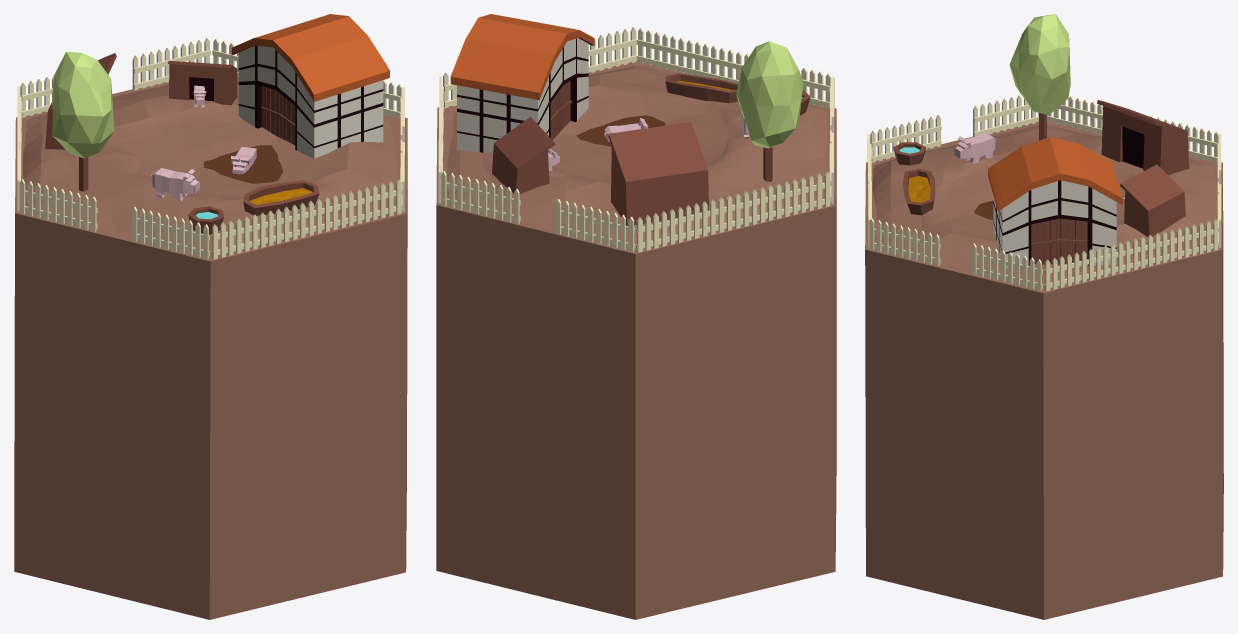
The model's file is settlement_actually.fbx.
The picture shows the model from 3 angles, left to right: view 1: azimuth 30°, elevation 25°; view 2: azimuth 150°, elevation 25°; view 3: azimuth 270°, elevation 25°; orthographic projection. The views are drawn at different scales.
Parts seen in each view (by area): view 1: BasePlate.003, Cube.005, Cube.129, Icosphere, Cube.004, Torus.001, Cube.008, Cube.007, Torus, Cube; view 2: BasePlate.003, Cube.129, Cube.005, Cube, Icosphere, Cube.004, Torus.001, Cube.008; view 3: BasePlate.003, Cube.129, Cube.005, Icosphere, Cube, Cube.004, Torus.001, Cube.007, Torus.
Part boxes in pixels (box(x1,y1,x2,y2)): BasePlate.003: box(14, 78, 407, 619); Cube.005: box(231, 14, 389, 158); Cube.129: box(17, 38, 404, 259); Icosphere: box(52, 51, 114, 158); Cube.004: box(168, 60, 237, 105); Torus.001: box(243, 180, 319, 215); Cube.008: box(203, 145, 282, 183); Cube.007: box(151, 168, 199, 200); Torus: box(188, 206, 223, 234); Cube: box(45, 53, 116, 149); BasePlate.003: box(436, 61, 836, 619); Cube.129: box(438, 27, 834, 252); Cube.005: box(450, 14, 594, 152); Cube: box(608, 122, 708, 226); Icosphere: box(736, 41, 803, 148); Cube.004: box(492, 117, 555, 193); Torus.001: box(665, 73, 738, 103); Cube.008: box(576, 115, 665, 146); BasePlate.003: box(865, 121, 1223, 619); Cube.129: box(867, 95, 1221, 291); Cube.005: box(988, 137, 1122, 268); Icosphere: box(1009, 14, 1070, 114); Cube: box(1097, 100, 1189, 175); Cube.004: box(1120, 164, 1185, 236); Torus.001: box(902, 168, 935, 215); Cube.007: box(954, 133, 995, 164); Torus: box(893, 142, 926, 165).
Bounding box in the file's own units: 40.62 × 49.84 × 35.31.
